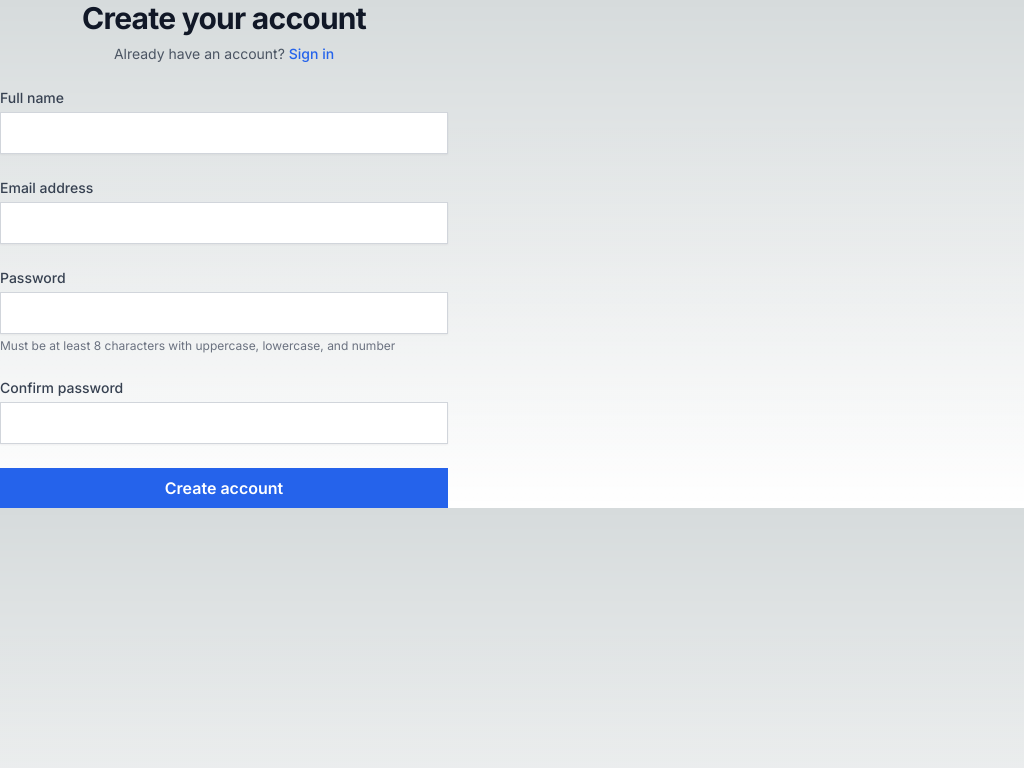
Test: RegisterForm Component › should display error on registration failure
This screenshot has width=1024, height=768.
Step 1. Type "John Doe" into the field labelled "Full name" → (224, 133), box [0,112,448,154]
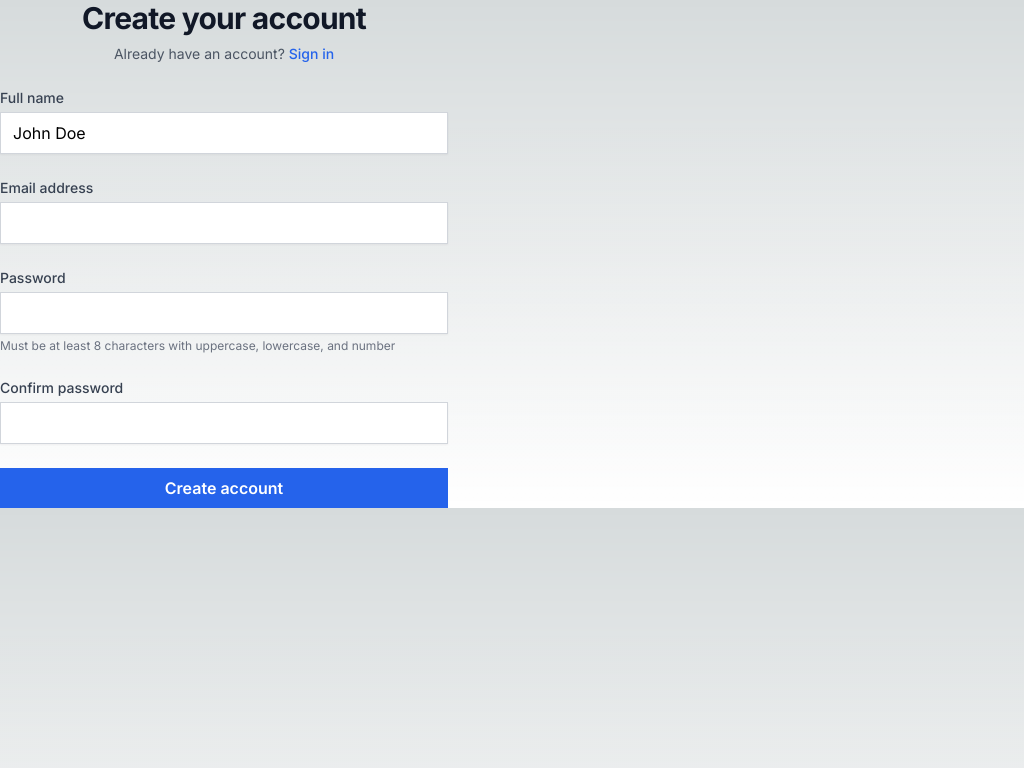
Step 2. Type "existing@example.com" into the field labelled "Email address" → (224, 223), box [0,202,448,244]
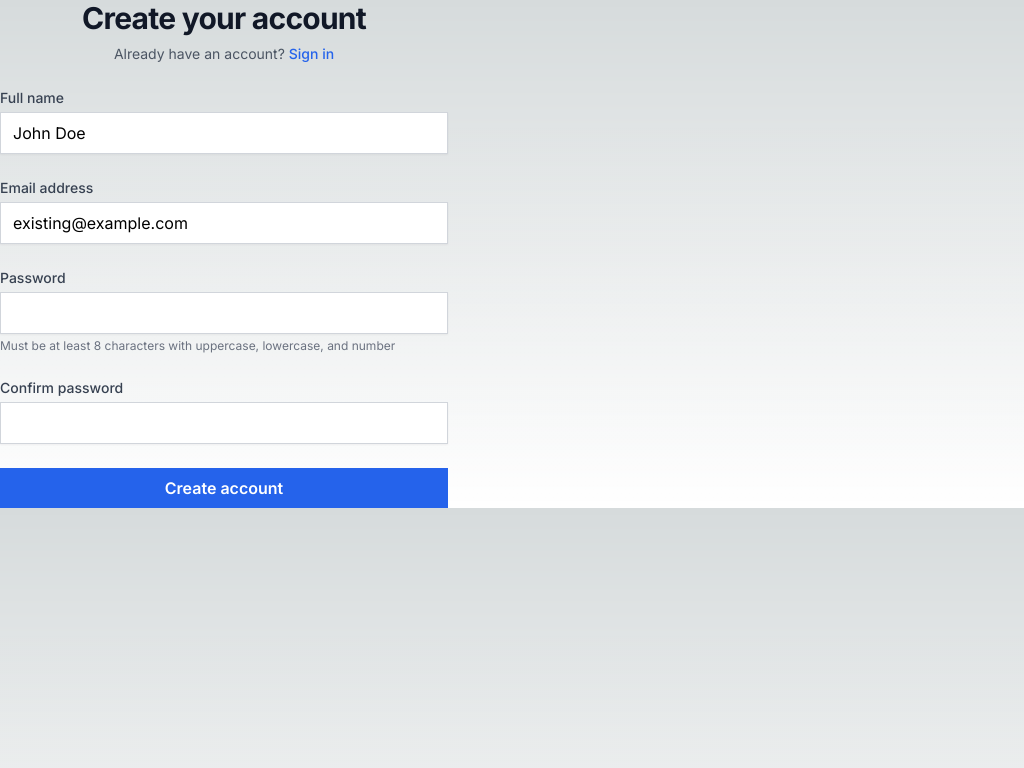
Step 3. Type "SecurePass123!" into the password field labelled "Password" → (224, 313), box [0,292,448,334]
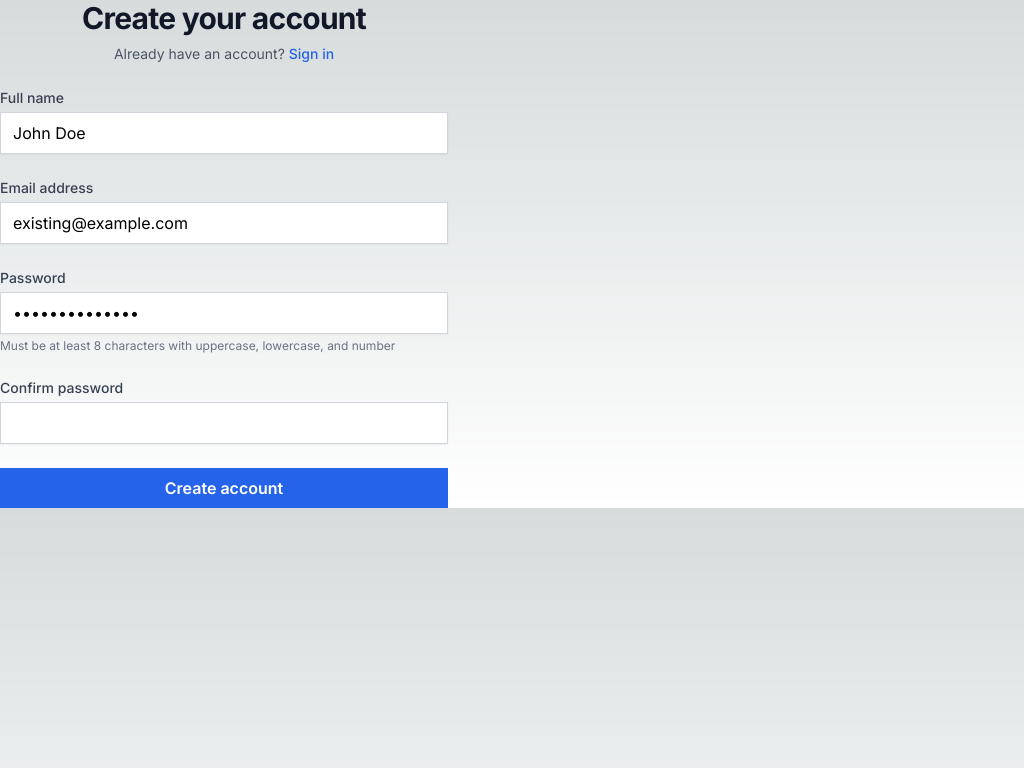
Step 4. Type "SecurePass123!" into the password field labelled "Confirm password" → (224, 423), box [0,402,448,444]
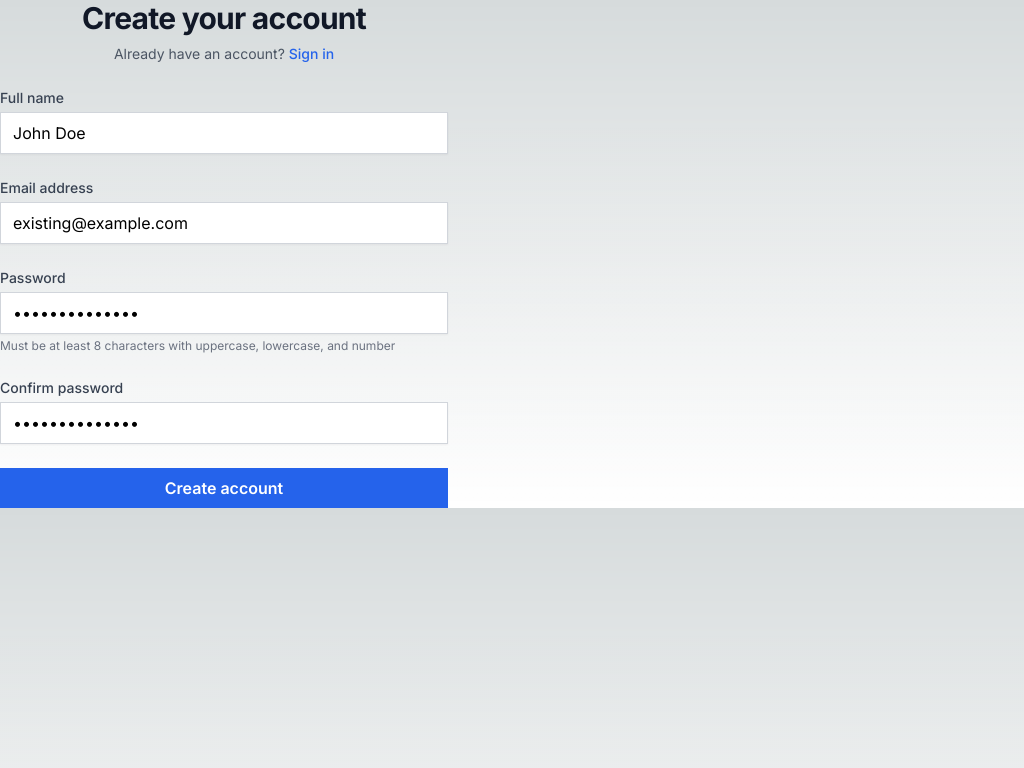
Step 5. Click the button "Create account" → (224, 488), box [0,468,448,508]
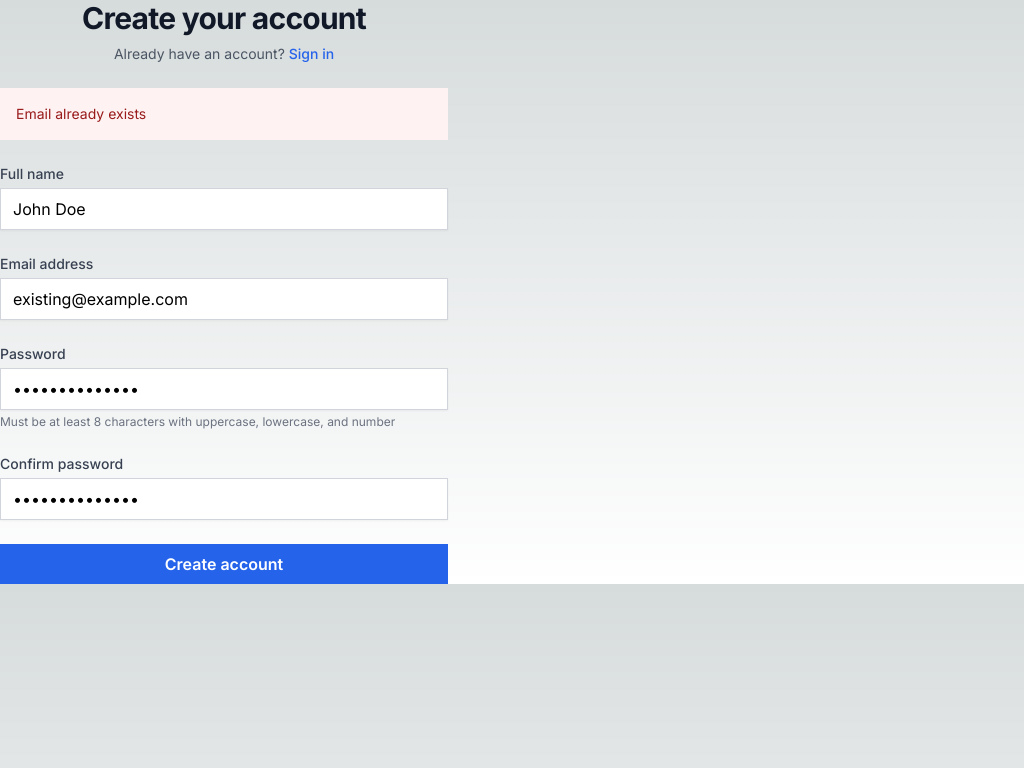
expect the text "Email already exists" is shown: met, box [16,105,146,122]
